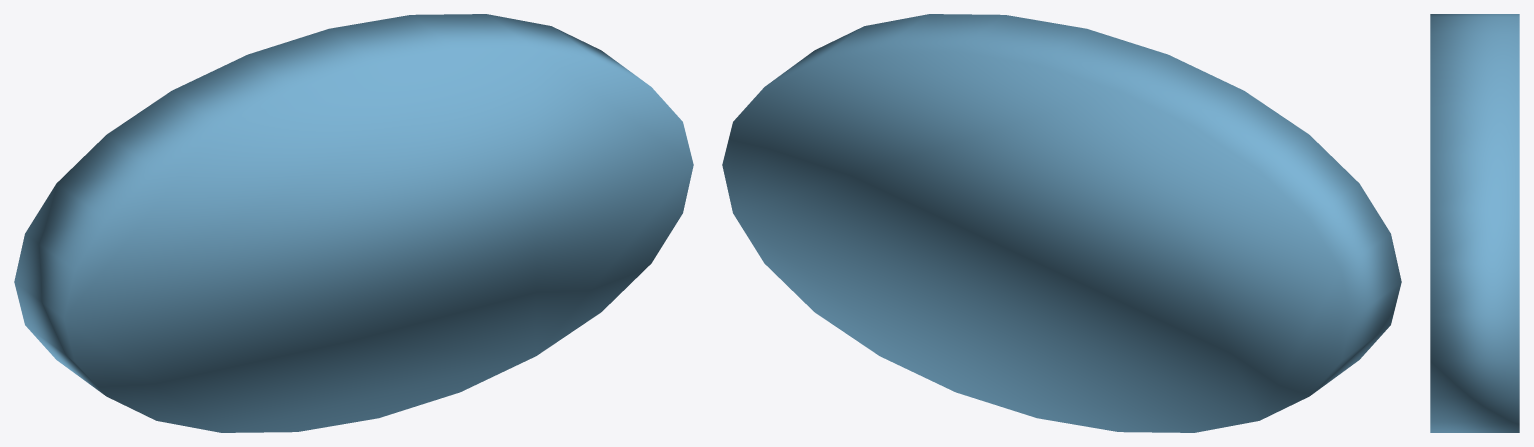
The model's file is shape-oval-blue.glb.
The picture shows the model from 3 angles, left to right: view 1: azimuth 30°, elevation 25°; view 2: azimuth 150°, elevation 25°; view 3: azimuth 270°, elevation 25°; orthographic projection. The views are drawn at different scales.
Parts seen in each view (by area): view 1: solid oval; view 2: solid oval; view 3: solid oval.
Part boxes in pixels (x1,y1,x2,y2): solid oval: [14, 14, 693, 432]; solid oval: [722, 14, 1401, 432]; solid oval: [1430, 14, 1519, 432].
Size of the model in its own units: 1.82 by 0.975 by 0.25.
